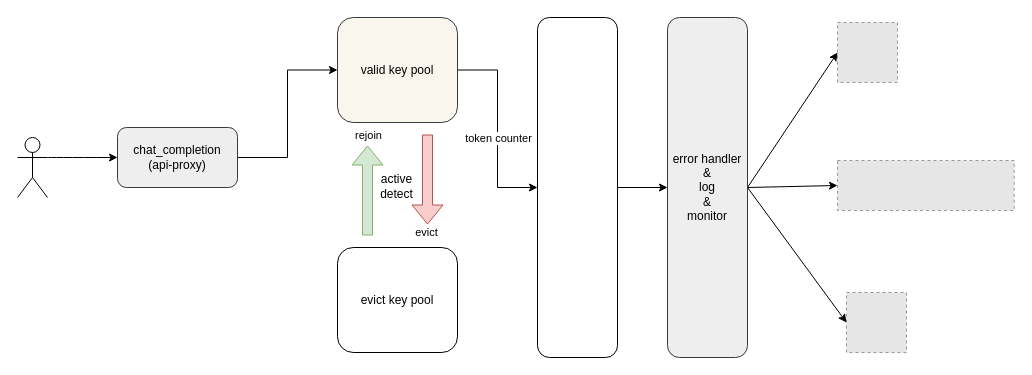
Some shapes in this 1032 by 375 pixel diagram are drawn without their labels. Grey dashed boxes stand in for pictures. Here are the shapes that lost their labels. From the top down, the box of each, then its label:
(16, 136, 48, 198): 用户
(536, 16, 618, 358): loadbalance & retry
